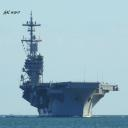Portanaves: (19, 11, 121, 121)
